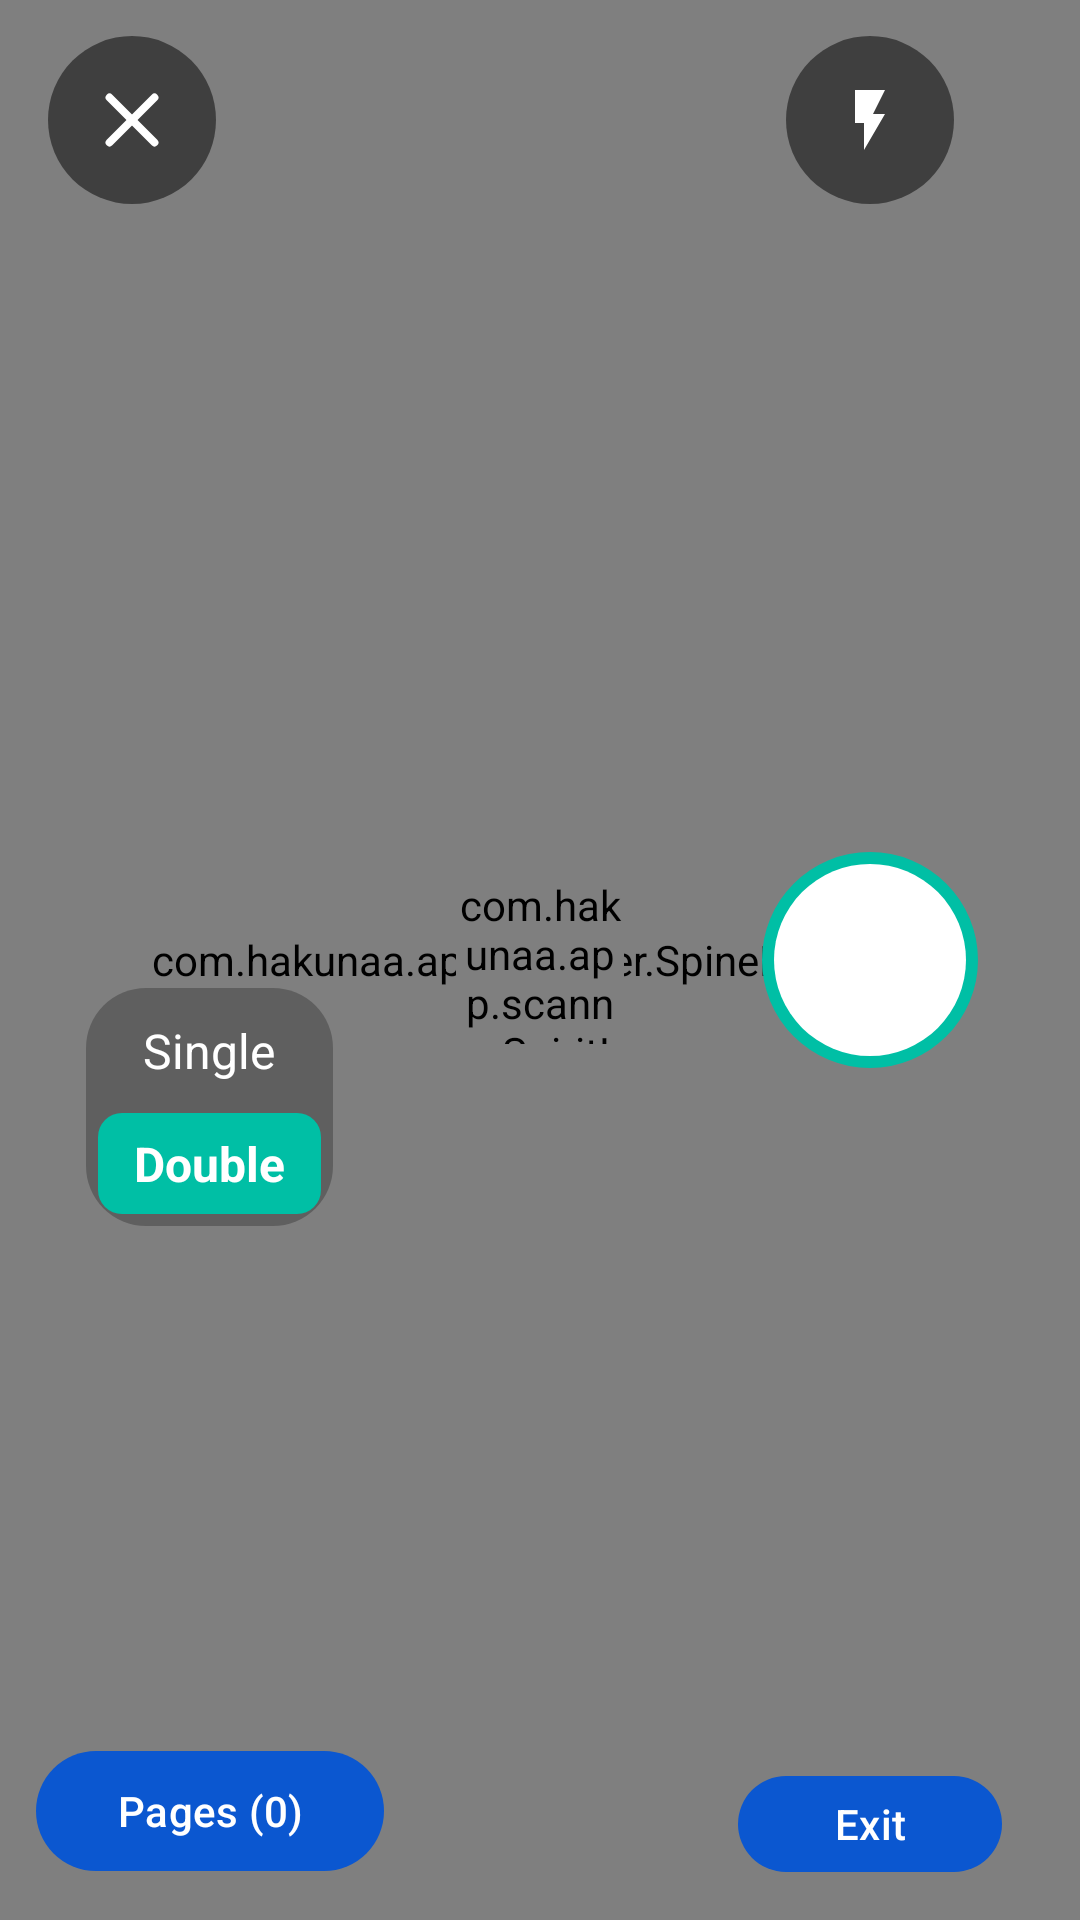

Locate icon controls on the screen. Image size 1080 x 1920, boxes as (left=x1, top=y1, right=x2, bottom=y2).
Close: (left=48, top=36, right=216, bottom=204)
Torch: (left=786, top=36, right=954, bottom=204)
